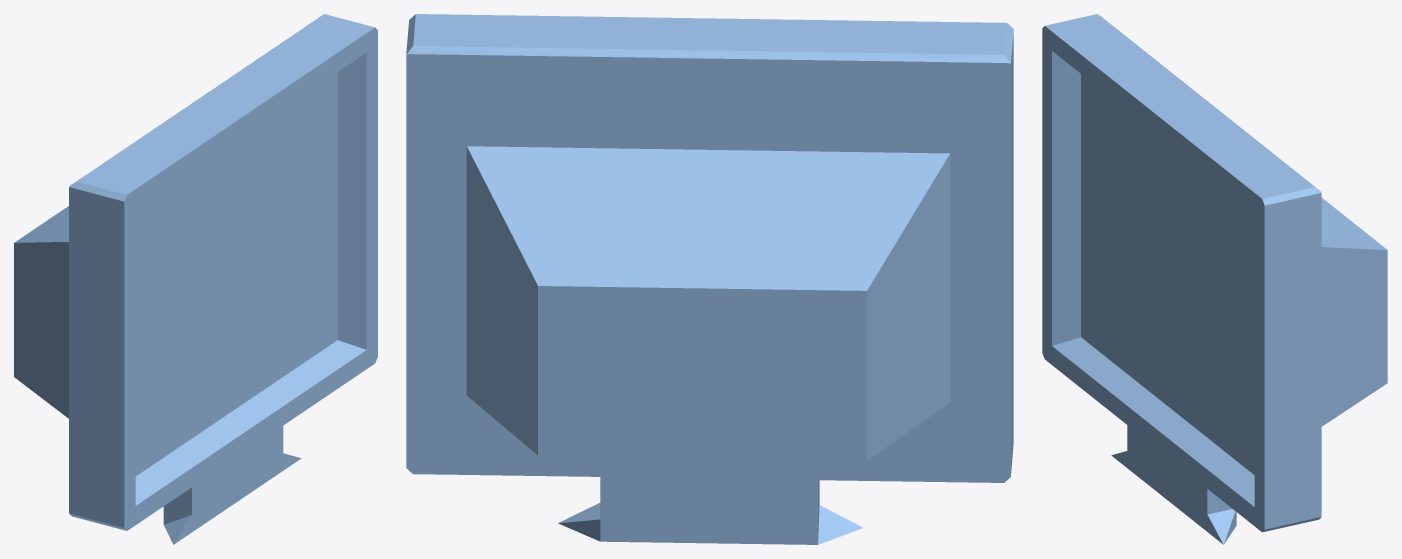
Rendered from monitor_(computer_equipment) computer_monitor_2149d4ef.glb.
3 views of the same model, side by side, from view 1: azimuth 30°, elevation 25°; view 2: azimuth 150°, elevation 25°; view 3: azimuth 270°, elevation 25° (orthographic). The views are drawn at different scales.
Parts seen in each view (by area): view 1: Object_2; view 2: Object_2; view 3: Object_2.
Boxes of the visible parts, x1,y1,x2,y2 form: Object_2: (14, 14, 377, 544); Object_2: (406, 14, 1013, 544); Object_2: (1042, 14, 1387, 544).
Size of the model in its own units: 20.84 by 20 by 16.03.
